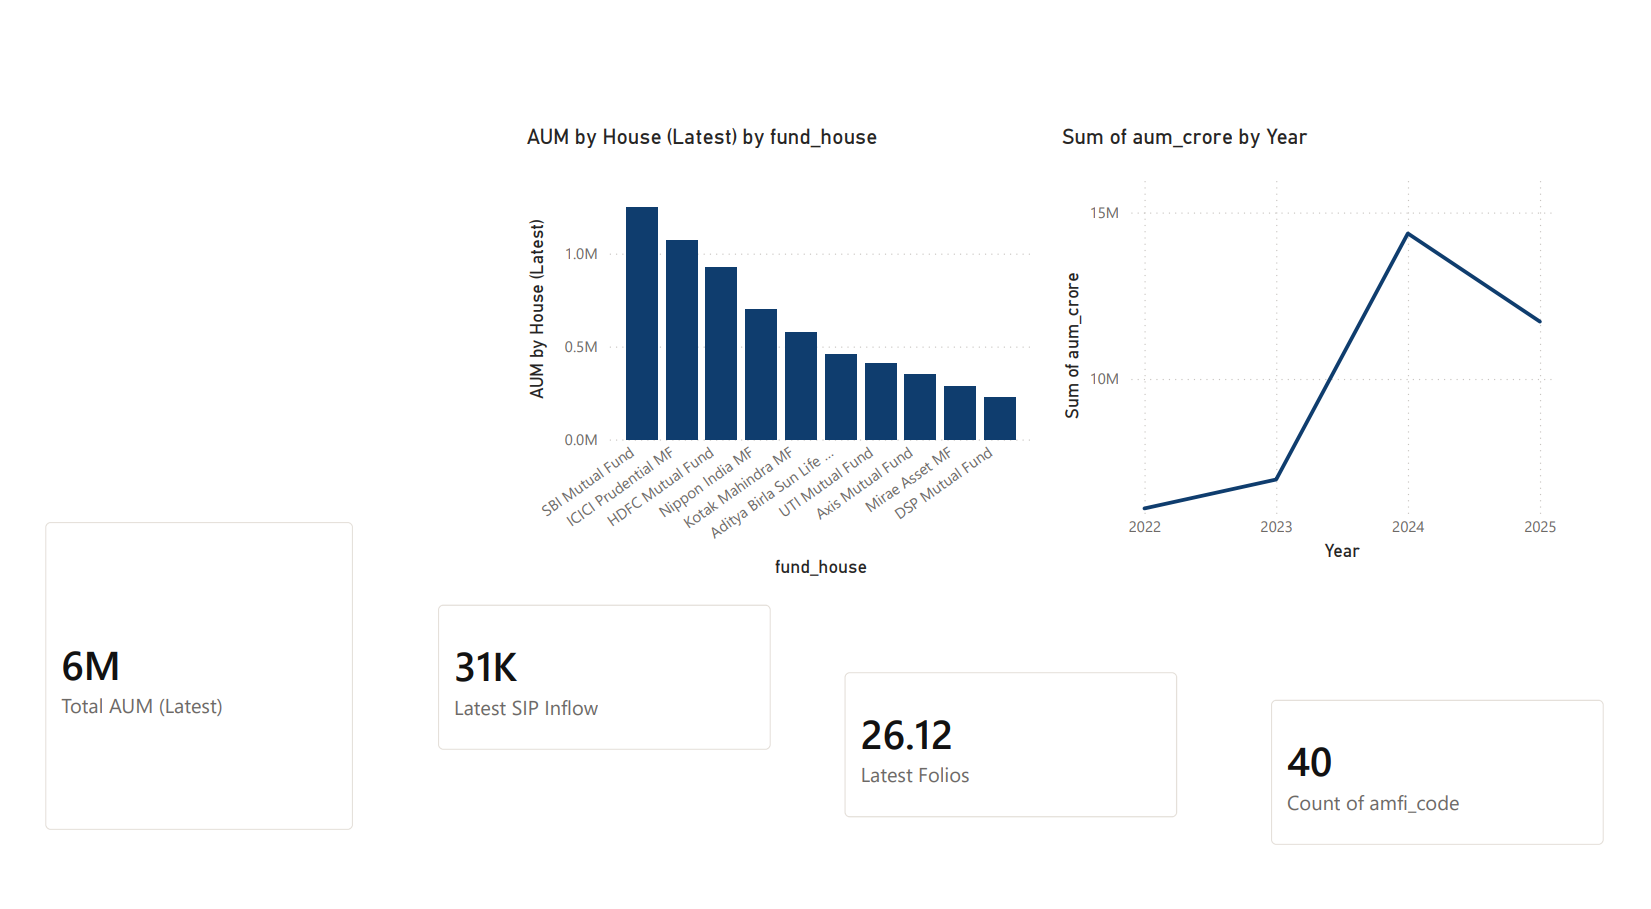

The dashboard page shown, as its layout file describes it:
{"tool":"powerbi","page":{"name":"Industry Overview","canvas":[1280,720],"ordinal":0},"visuals":[{"type":"cardVisual","fields":{"Data":["clean_03_aum_by_fund_house.Total AUM (Latest)"]},"box":[0,381.5,280,280],"z":0},{"type":"cardVisual","fields":{"Data":["CountNonNull(clean_01_fund_master.amfi_code)"]},"box":[979.8,522.8,300,150],"z":1000},{"type":"cardVisual","fields":{"Data":["clean_04_monthly_sip_inflows.Latest SIP Inflow"]},"box":[314.2,447.3,300,150],"z":2000},{"type":"cardVisual","fields":{"Data":["clean_06_industry_folio_count.Latest Folios"]},"box":[639.5,500.9,300,150],"z":3000},{"type":"lineChart","fields":{"Category":["clean_03_aum_by_fund_house.date.Variation.Date Hierarchy.Year","clean_03_aum_by_fund_house.date.Variation.Date Hierarchy.Quarter","clean_03_aum_by_fund_house.date.Variation.Date Hierarchy.Month","clean_03_aum_by_fund_house.date.Variation.Date Hierarchy.Day"],"Y":["Sum(clean_03_aum_by_fund_house.aum_crore)"]},"box":[824.7,79.6,404.8,354],"z":4000},{"type":"clusteredColumnChart","fields":{"Category":["clean_03_aum_by_fund_house.fund_house"],"Y":["clean_03_aum_by_fund_house.AUM by House (Latest)"]},"box":[396.6,79.6,414.4,367.8],"z":5000}]}

Visuals, with their boxes in screenshot pixels (x1, y1, x2, y2), scaled from the page's 1280x720 canvas onto the 1651x909 screenshot:
cardVisual - clean_03_aum_by_fund_house.Total AUM (Latest): <region>0, 482, 361, 835</region>
cardVisual - CountNonNull(clean_01_fund_master.amfi_code): <region>1264, 660, 1650, 849</region>
cardVisual - clean_04_monthly_sip_inflows.Latest SIP Inflow: <region>405, 565, 792, 754</region>
cardVisual - clean_06_industry_folio_count.Latest Folios: <region>825, 632, 1212, 822</region>
lineChart - clean_03_aum_by_fund_house.date.Variation.Date Hierarchy.Year x clean_03_aum_by_fund_house.date.Variation.Date Hierarchy.Quarter: <region>1064, 100, 1586, 547</region>
clusteredColumnChart - clean_03_aum_by_fund_house.fund_house x clean_03_aum_by_fund_house.AUM by House (Latest): <region>512, 100, 1046, 565</region>
